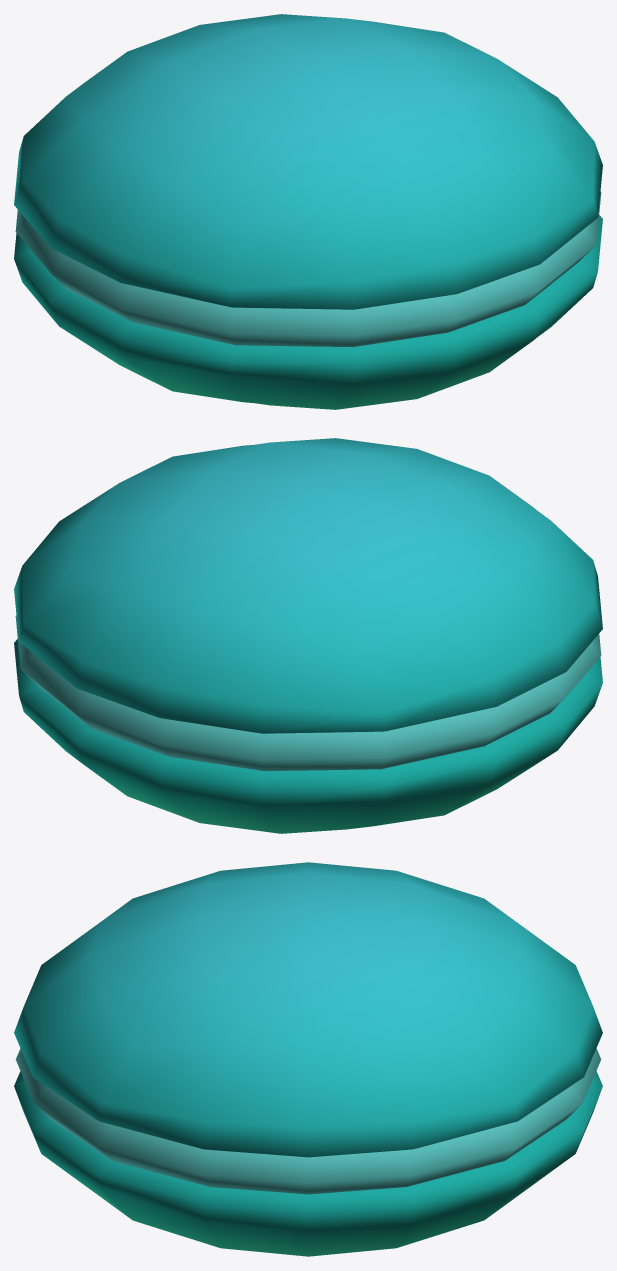
The model's file is cookie_009.fbx.
3 renders of one model, top to bottom at view 1: azimuth 30°, elevation 25°; view 2: azimuth 150°, elevation 25°; view 3: azimuth 270°, elevation 25°, orthographic.
Parts seen in each view (by area): view 1: cookie_009; view 2: cookie_009; view 3: cookie_009.
Boxes of the visible parts, x1,y1,x2,y2 form: cookie_009: [14, 14, 602, 409]; cookie_009: [14, 438, 602, 833]; cookie_009: [14, 862, 602, 1256].
Size of the model in its own units: 5.37 by 5.37 by 3.02.
